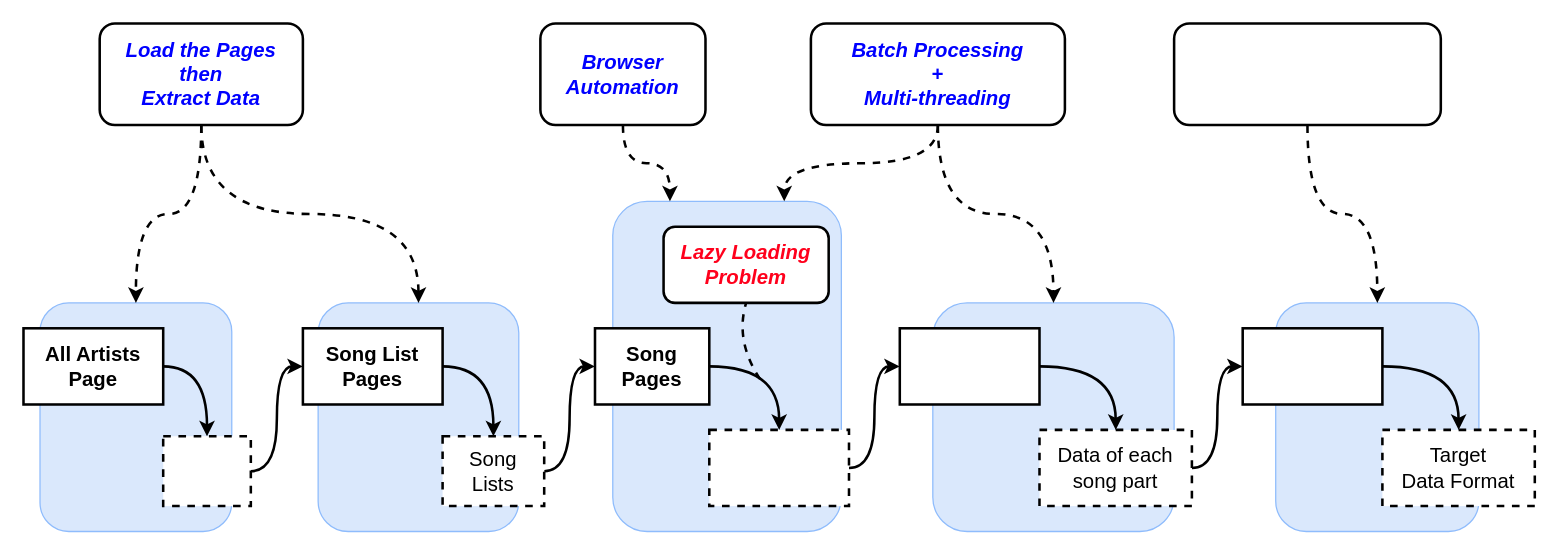
This 1557x554 diagram has some shape labels left out. The box of each missing label's shape, as (x1, y1, x2, y2) in pixels:
Artist IDs: (161, 434, 251, 507)
Converters: (1241, 326, 1383, 405)
ID of each song part: (707, 428, 850, 507)
Music Theory + MuseCoco Data Format: (1172, 22, 1441, 126)
Song part API: (898, 326, 1040, 405)
